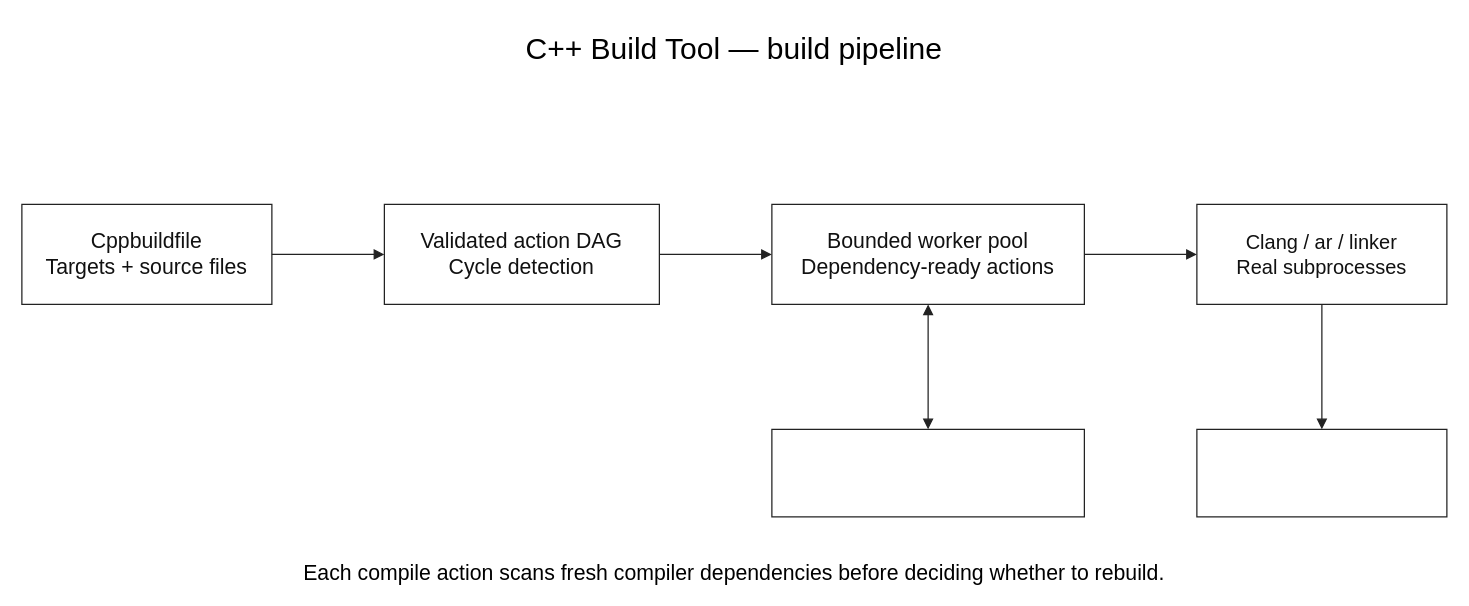
The diagram is 1469 pixels wide and 606 high, and some of its shapes have lost their labels. The shapes that lost their labels are listed below. From the top down, each one's centre as x and y in pixels, then its label:
At (927,472): "Verified local action cache SHA-256 input keys".
At (1321,472): "Managed outputs Objects · libraries · apps".
